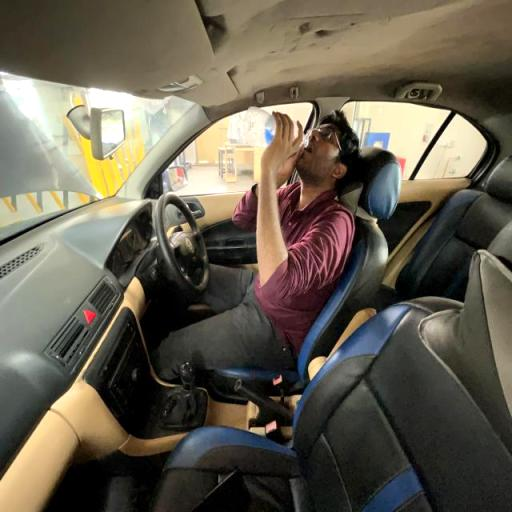Drinking: (202, 104, 371, 337)
